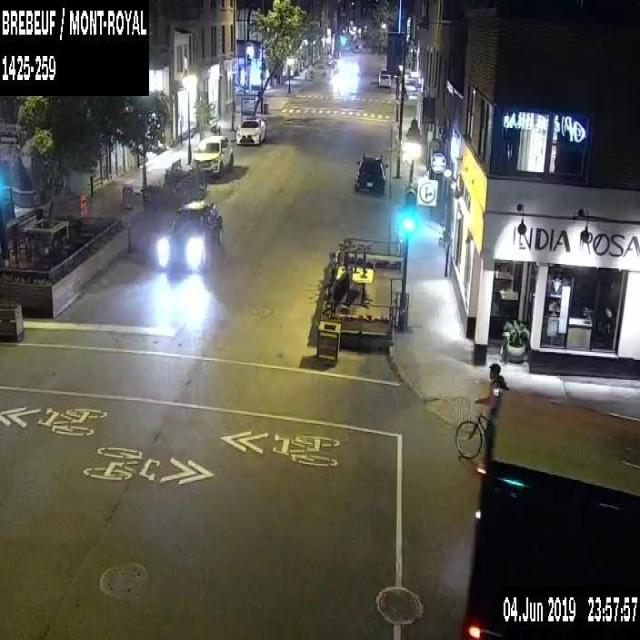cyclist: (455, 364, 522, 457)
vehicle: (456, 393, 639, 639), (156, 199, 224, 269), (187, 133, 234, 176), (351, 153, 385, 195), (233, 116, 266, 145), (376, 69, 391, 88)
